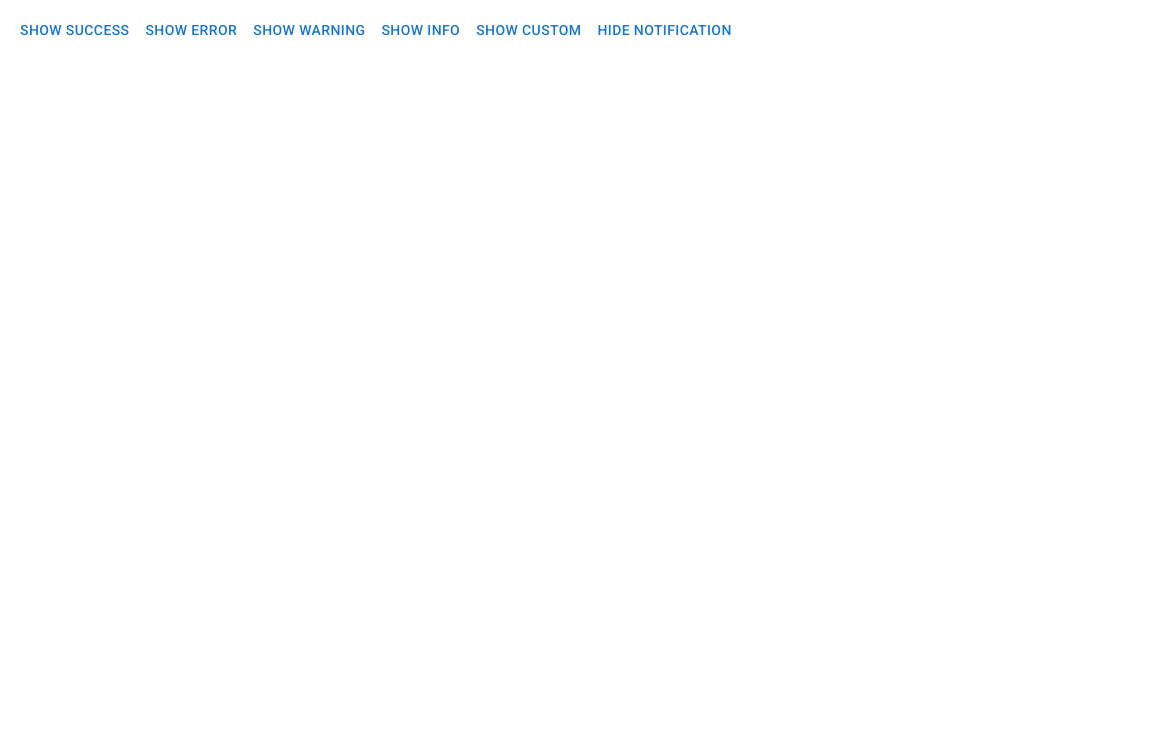
NotificationContext › should show success notification
Step 1. Click the button "Show Success" → (75, 30), box left=12, top=12, right=137, bottom=48
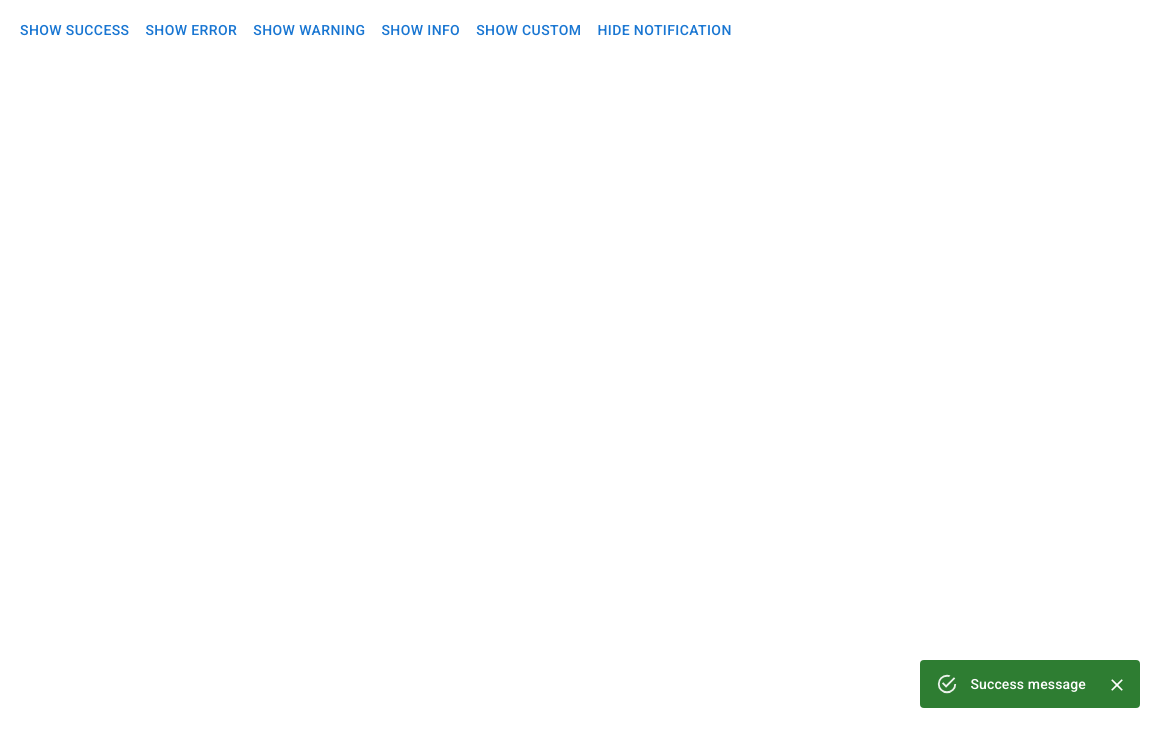
Result: the text "Success message" is shown at left=970, top=676, right=1086, bottom=692
